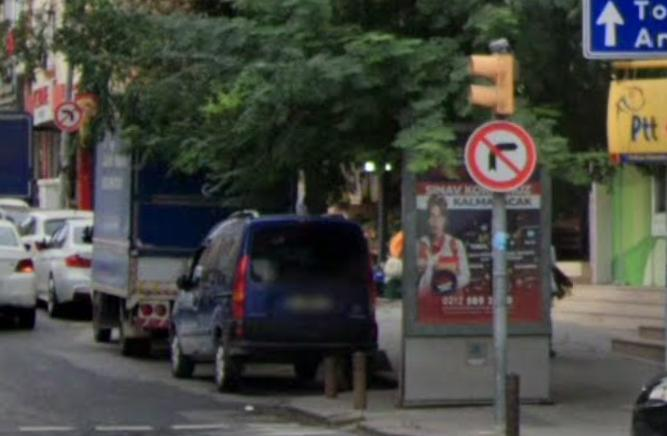leftturnsareforbidden: (53, 101, 84, 132)
rightturnsareforbidden: (467, 123, 540, 195)
